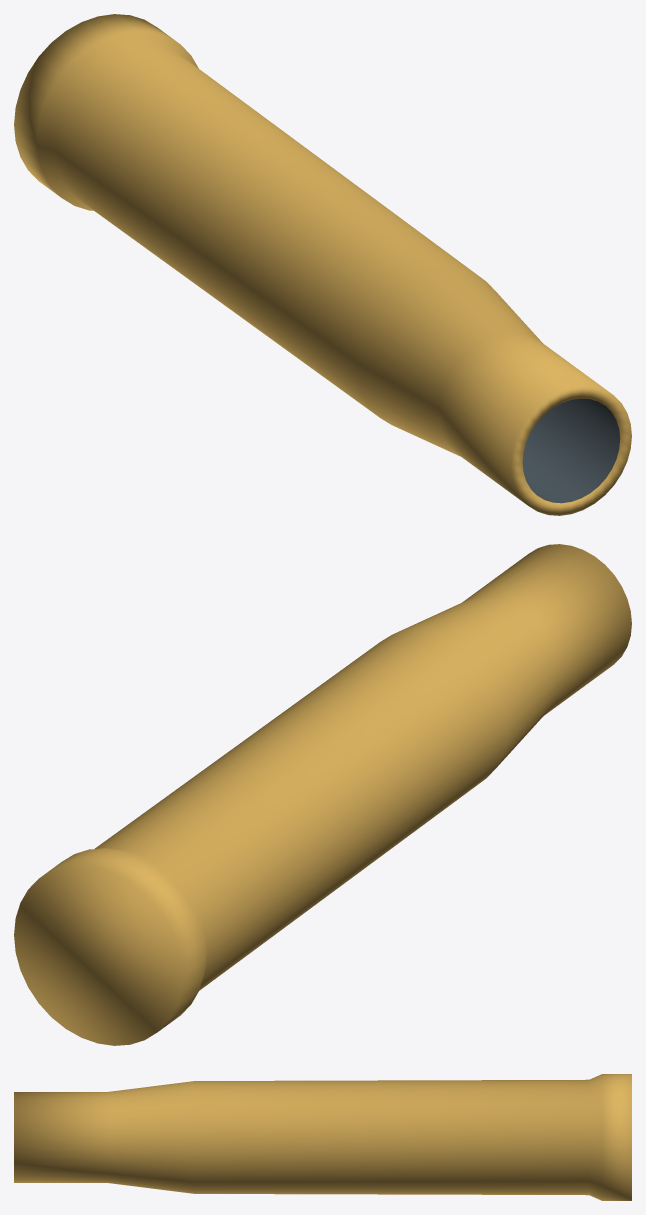
The model's file is needle_50_case_display.glb.
The picture shows the model from 3 angles, top to bottom: view 1: azimuth 30°, elevation 25°; view 2: azimuth 150°, elevation 25°; view 3: azimuth 270°, elevation 25°; orthographic projection. The views are drawn at different scales.
Parts seen in each view (by area): view 1: AMMO_MESH.017; view 2: AMMO_MESH.017; view 3: AMMO_MESH.017.
Part boxes in pixels (left/top/right/bottom): AMMO_MESH.017: left=14, top=14, right=631, bottom=515; AMMO_MESH.017: left=14, top=544, right=631, bottom=1045; AMMO_MESH.017: left=14, top=1074, right=631, bottom=1200.
Size of the model in its own units: 0.0204 by 0.0204 by 0.0994.
